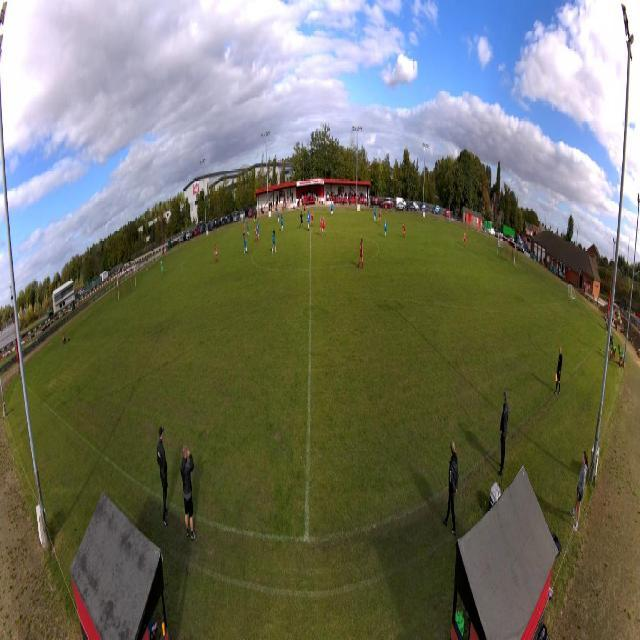ball: (394, 211, 395, 213)
player: (358, 239, 364, 269), (272, 229, 277, 254), (322, 216, 326, 237), (319, 215, 323, 236), (214, 243, 218, 263), (244, 234, 248, 254), (161, 259, 165, 278), (255, 225, 259, 244), (307, 211, 311, 230), (384, 219, 388, 238), (299, 211, 303, 229), (310, 210, 314, 228), (377, 207, 381, 224), (402, 223, 406, 239), (330, 202, 334, 216), (256, 222, 259, 240), (281, 213, 284, 231), (247, 220, 250, 237), (374, 206, 377, 222), (303, 202, 306, 217), (463, 231, 466, 246), (277, 209, 280, 223), (385, 204, 388, 215), (243, 222, 245, 236)
